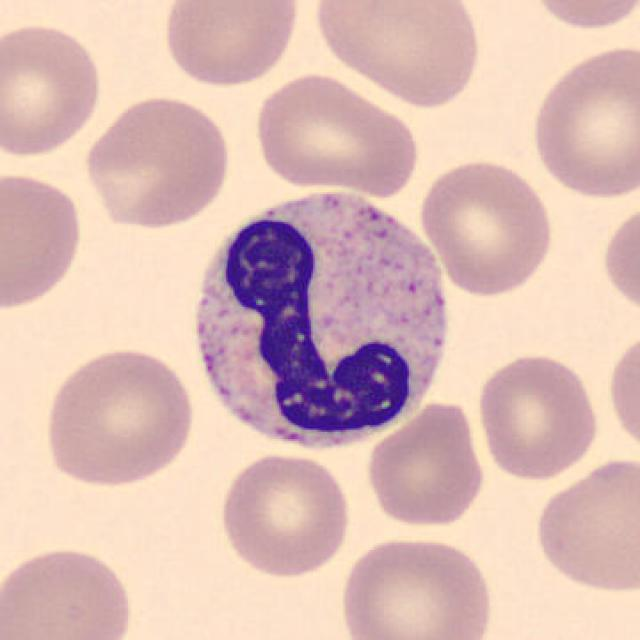Neutrophil: (179, 178, 457, 462)
RBC: (39, 342, 197, 490), (249, 68, 421, 195), (80, 92, 235, 231), (414, 155, 556, 300), (309, 0, 485, 109), (215, 450, 354, 580), (526, 42, 638, 203), (334, 532, 498, 640), (473, 349, 603, 483), (363, 396, 489, 530), (530, 453, 638, 596), (0, 20, 105, 160), (0, 541, 140, 639), (158, 0, 304, 90), (0, 166, 87, 314), (599, 198, 638, 322), (604, 326, 640, 458), (524, 0, 639, 33)
